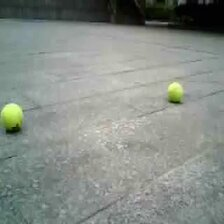tennis: (3, 101, 23, 131), (167, 81, 183, 101)
